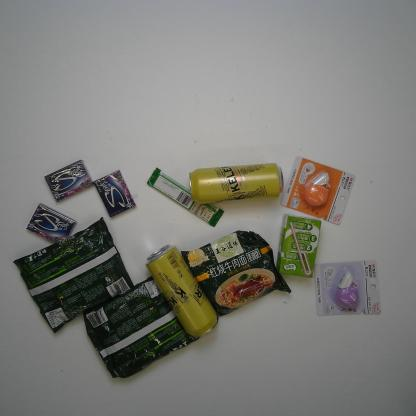Alcohol: (145, 244, 219, 338), (188, 163, 284, 204)
Chocolate: (146, 167, 224, 228)
Gum: (44, 160, 94, 204), (25, 202, 76, 245), (94, 170, 136, 218)
Instant Noodles: (12, 217, 135, 333), (82, 275, 200, 379), (180, 228, 292, 316)
Milk: (275, 213, 322, 278)
Stationery: (280, 156, 357, 226), (312, 260, 382, 316)
